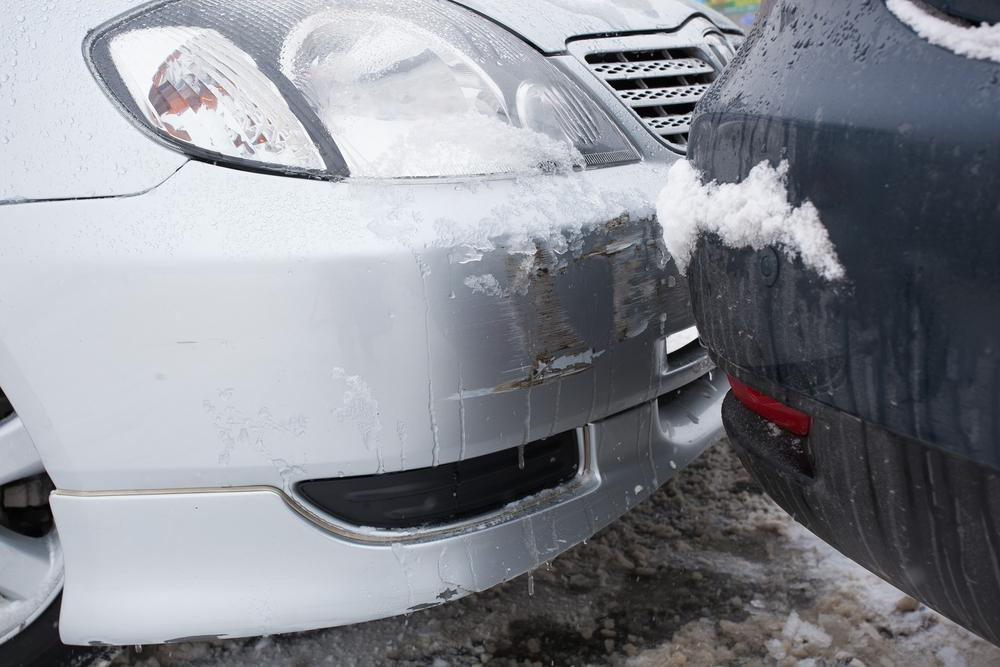scratch: (457, 214, 664, 409)
